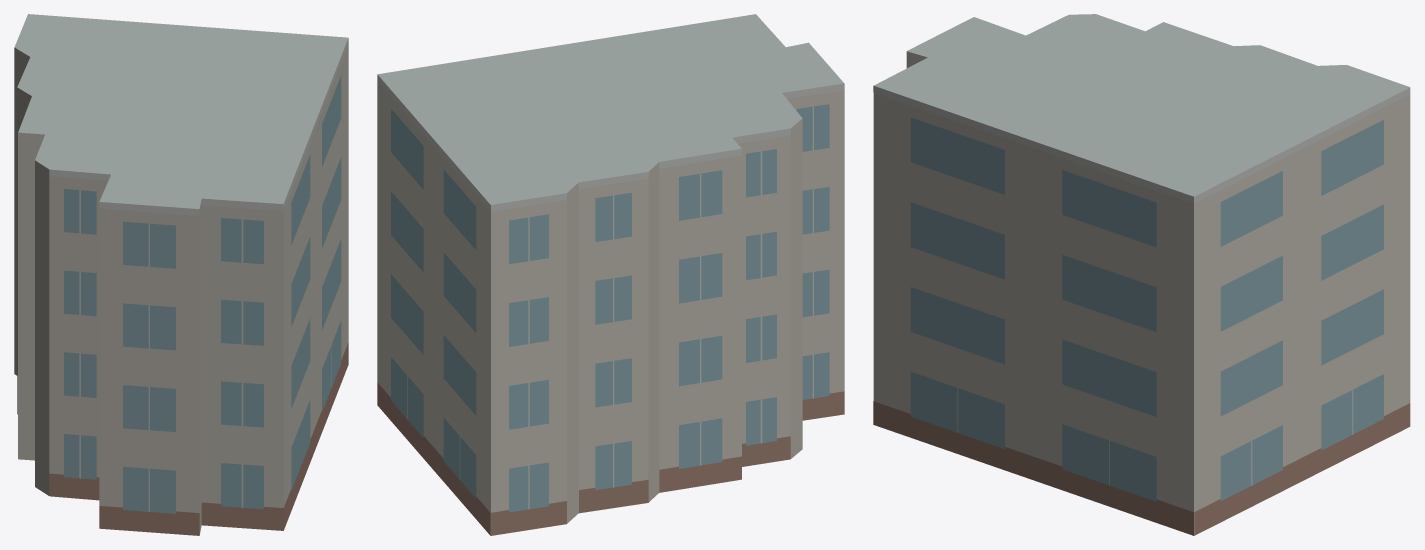
The model's file is survey-upis-32707935.glb.
3 views of the same model, side by side, from view 1: azimuth 30°, elevation 25°; view 2: azimuth 150°, elevation 25°; view 3: azimuth 270°, elevation 25° (orthographic). The views are drawn at different scales.
Parts seen in each view (by area): view 1: survey-upis-32707935.tmp; view 2: survey-upis-32707935.tmp; view 3: survey-upis-32707935.tmp.
Boxes of the visible parts, left/top/right/bottom form: survey-upis-32707935.tmp: left=14, top=14, right=348, bottom=535; survey-upis-32707935.tmp: left=377, top=14, right=844, bottom=535; survey-upis-32707935.tmp: left=873, top=14, right=1410, bottom=535.
Bounding box in the file's own units: 13.65 × 11.8 × 16.94.
